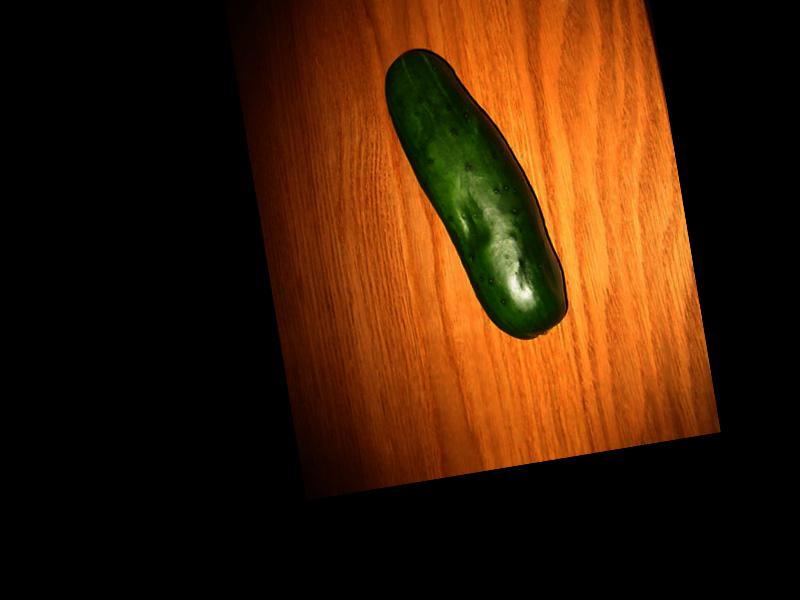Cucumber: (380, 30, 572, 351)
